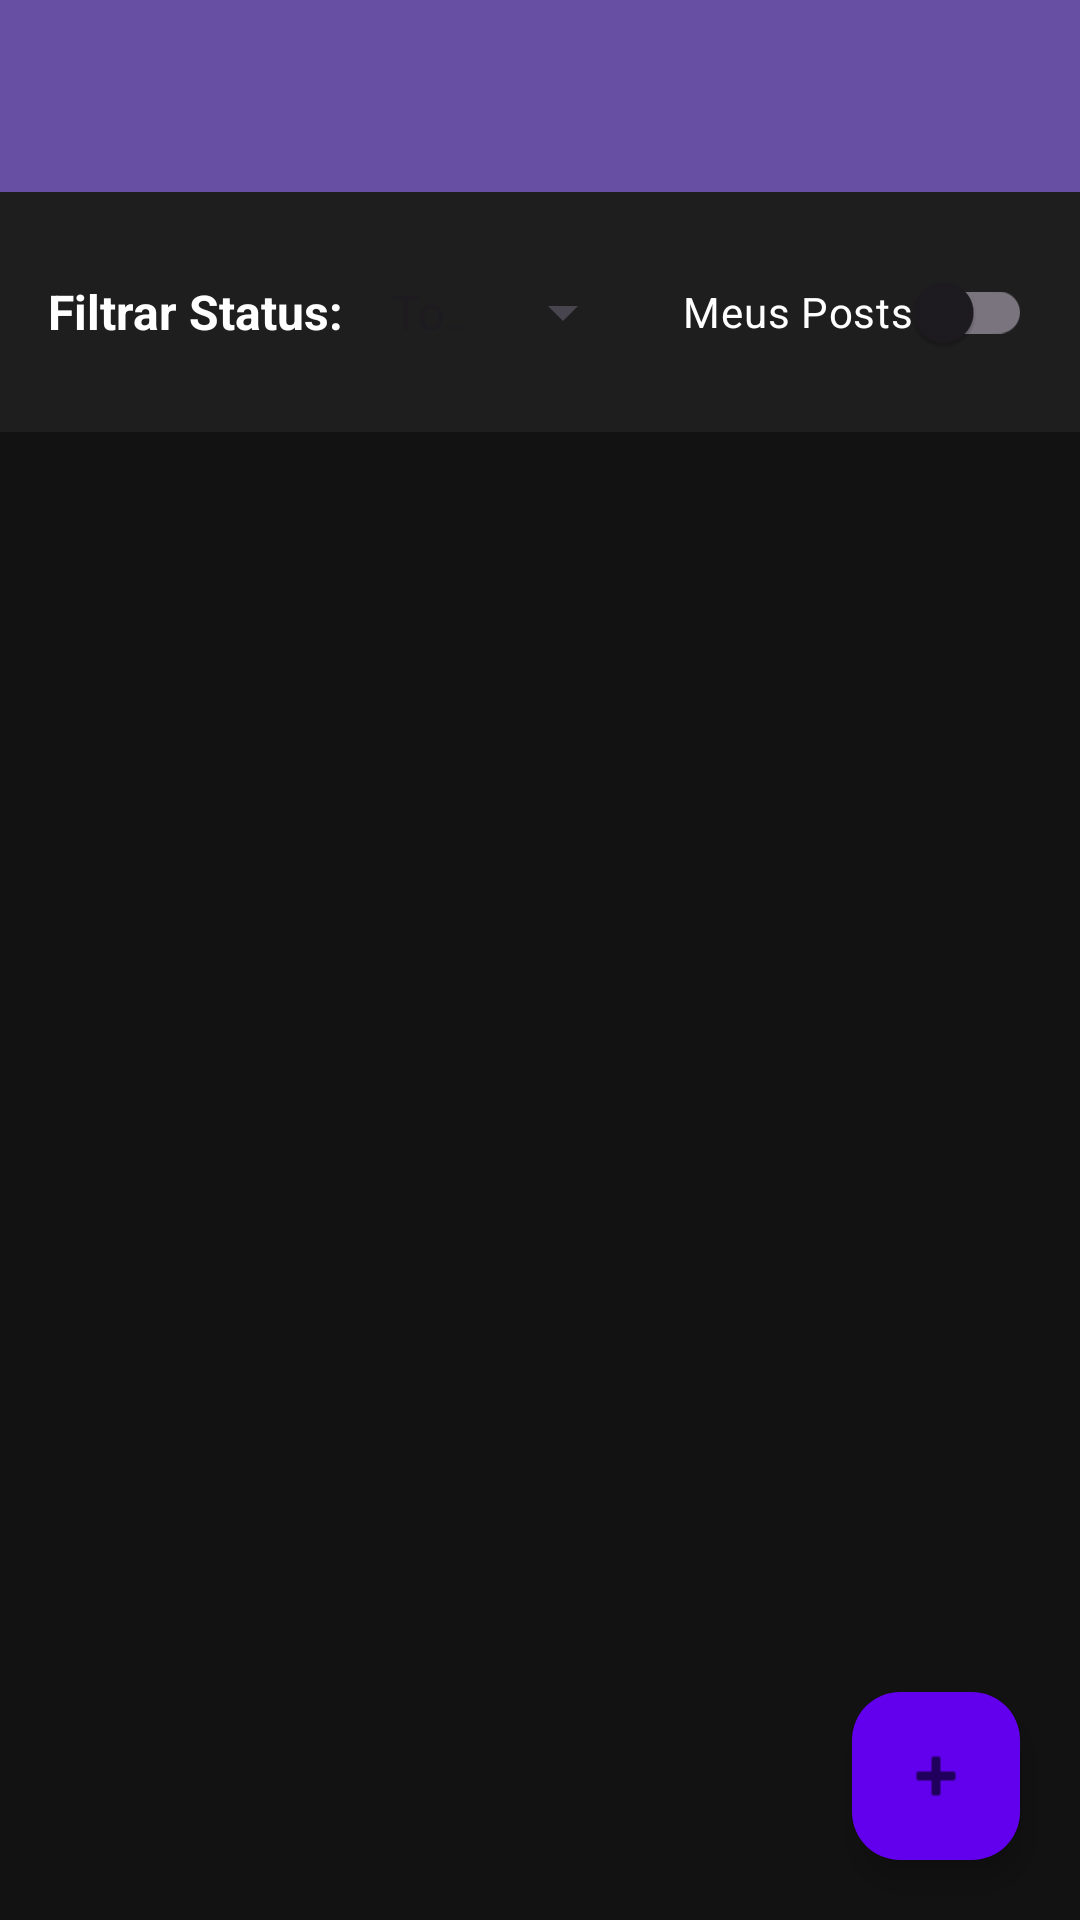

Locate icon controls on the screen. Image size 1080px×1920px, boxes as {"left": x1, "top": y1, "right": x2, "bottom": y2}.
Adicionar Pet: {"left": 852, "top": 1692, "right": 1020, "bottom": 1860}
